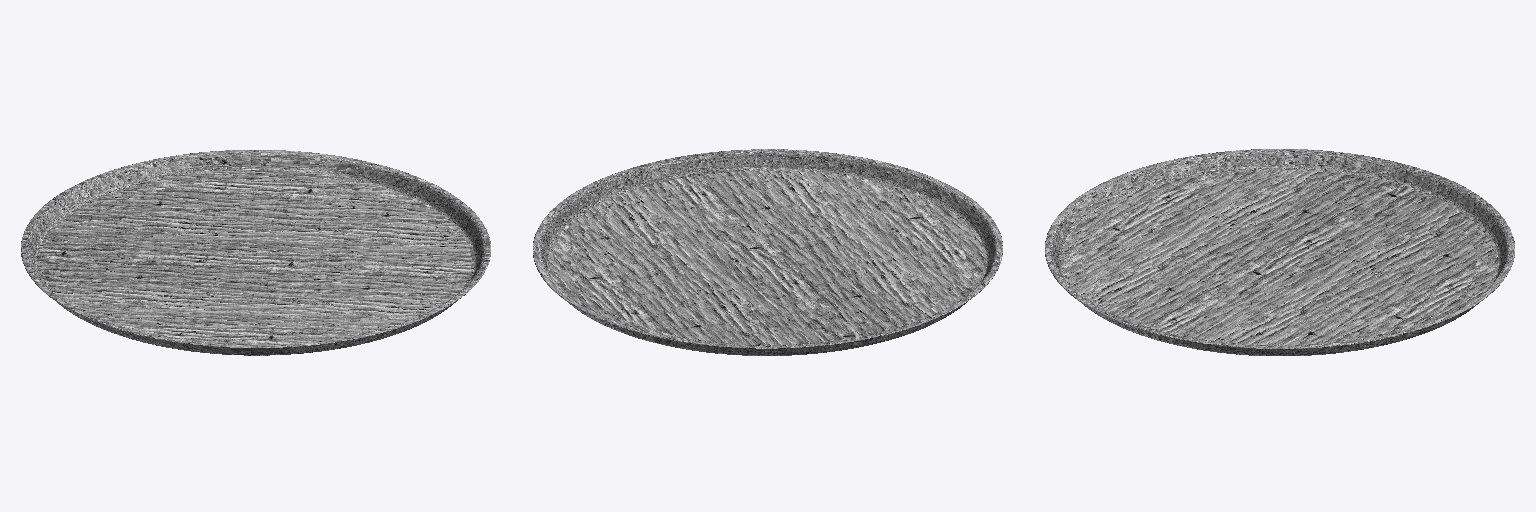
3 views of the same model, side by side, from view 1: azimuth 30°, elevation 25°; view 2: azimuth 150°, elevation 25°; view 3: azimuth 270°, elevation 25° (orthographic).
Visible parts, largest first — view 1: Mesh1 G_3DGeom_3 AI30_005_gadget_003_06 Model; view 2: Mesh1 G_3DGeom_3 AI30_005_gadget_003_06 Model; view 3: Mesh1 G_3DGeom_3 AI30_005_gadget_003_06 Model.
Boxes of the visible parts, box(x1,y1,x2,y2) form: Mesh1 G_3DGeom_3 AI30_005_gadget_003_06 Model: box(21, 150, 490, 355); Mesh1 G_3DGeom_3 AI30_005_gadget_003_06 Model: box(533, 149, 1002, 355); Mesh1 G_3DGeom_3 AI30_005_gadget_003_06 Model: box(1045, 149, 1514, 355).
Bounding box in the file's own units: 98.58 × 3.8 × 98.57.
1 materials, 1 textured.